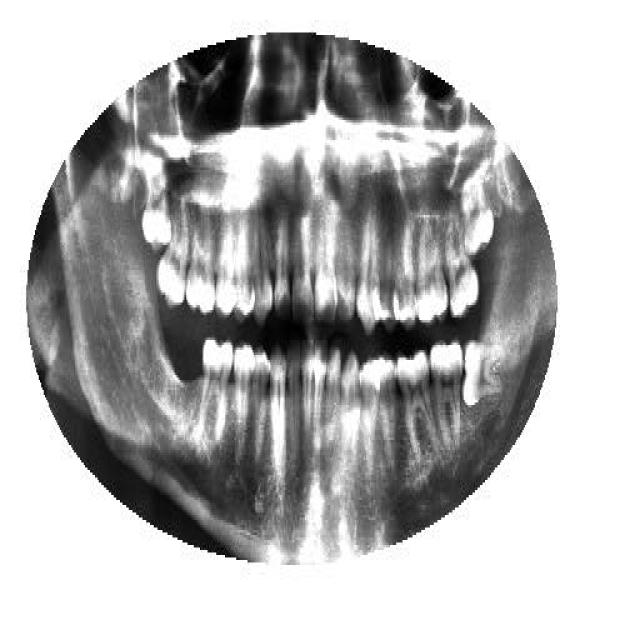Impacted Tooth: (462, 338, 508, 408), (460, 173, 495, 265), (143, 177, 175, 255)
